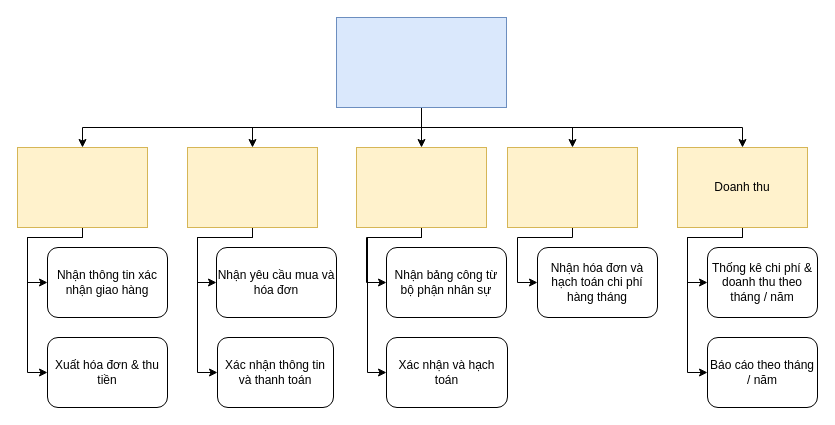
Some shapes in this 835 by 425 pixel diagram are drawn without their labels. Here are the shapes that lost their labels. From the top down, the centre of each, then its label:
At point 421,62: "Nhân viên kế toán".
At point 82,187: "Bán hàng".
At point 252,187: "Mua hàng".
At point 421,187: "Lương".
At point 572,187: "Chi phí vận hành".
